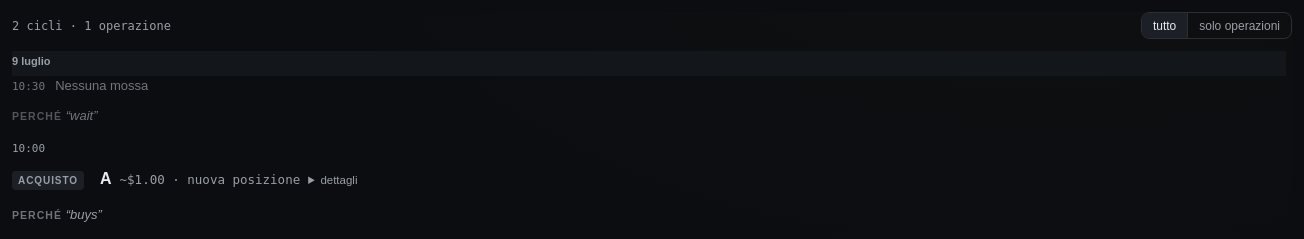
Test case: EventsFeed (payload-driven) › filtro 'solo operazioni' nasconde i gruppi d'attesa
Expected: the text "Nessuna mossa" is shown, [55, 76, 148, 95]
Step 1. Click the button "solo operazioni" → (1239,26), box [1187, 13, 1291, 38]
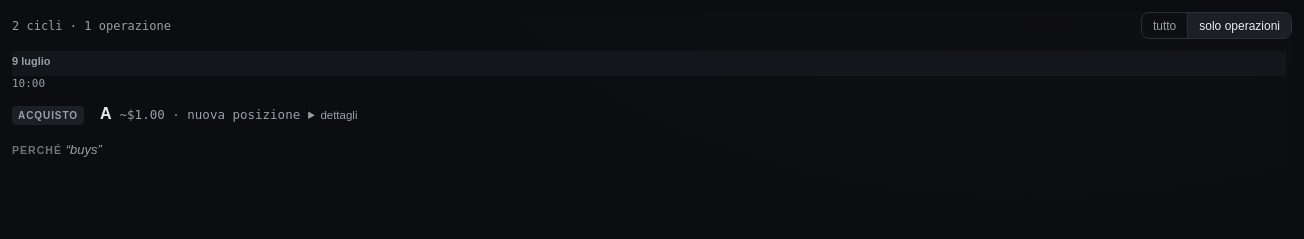
Expected: the text "ACQUISTO" is shown, [12, 106, 84, 125]
Result: the text "Nessuna mossa" is gone
